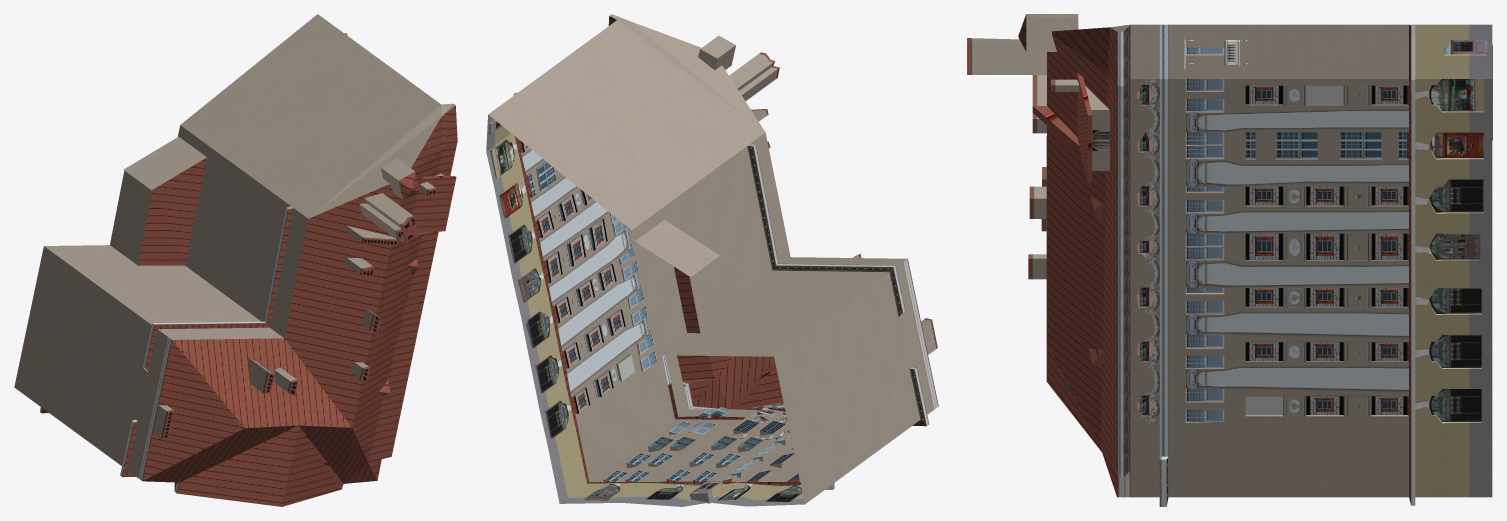
Rendered from Vabaduse_valjak_2a-origo.obj.
3 renders of one model, left to right at view 1: azimuth 30°, elevation 25°; view 2: azimuth 150°, elevation 25°; view 3: azimuth 270°, elevation 25°, orthographic. The views are drawn at different scales.
Visible parts, largest first — view 1: Vabaduke_valjak_2a; view 2: Vabaduke_valjak_2a; view 3: Vabaduke_valjak_2a.
Part boxes in pixels (x1=…): Vabaduke_valjak_2a: x1=14, y1=14, x2=457, y2=506; Vabaduke_valjak_2a: x1=486, y1=14, x2=938, y2=506; Vabaduke_valjak_2a: x1=967, y1=14, x2=1492, y2=506.
Size of the model in its own units: 32.5 by 35 by 31.52.
